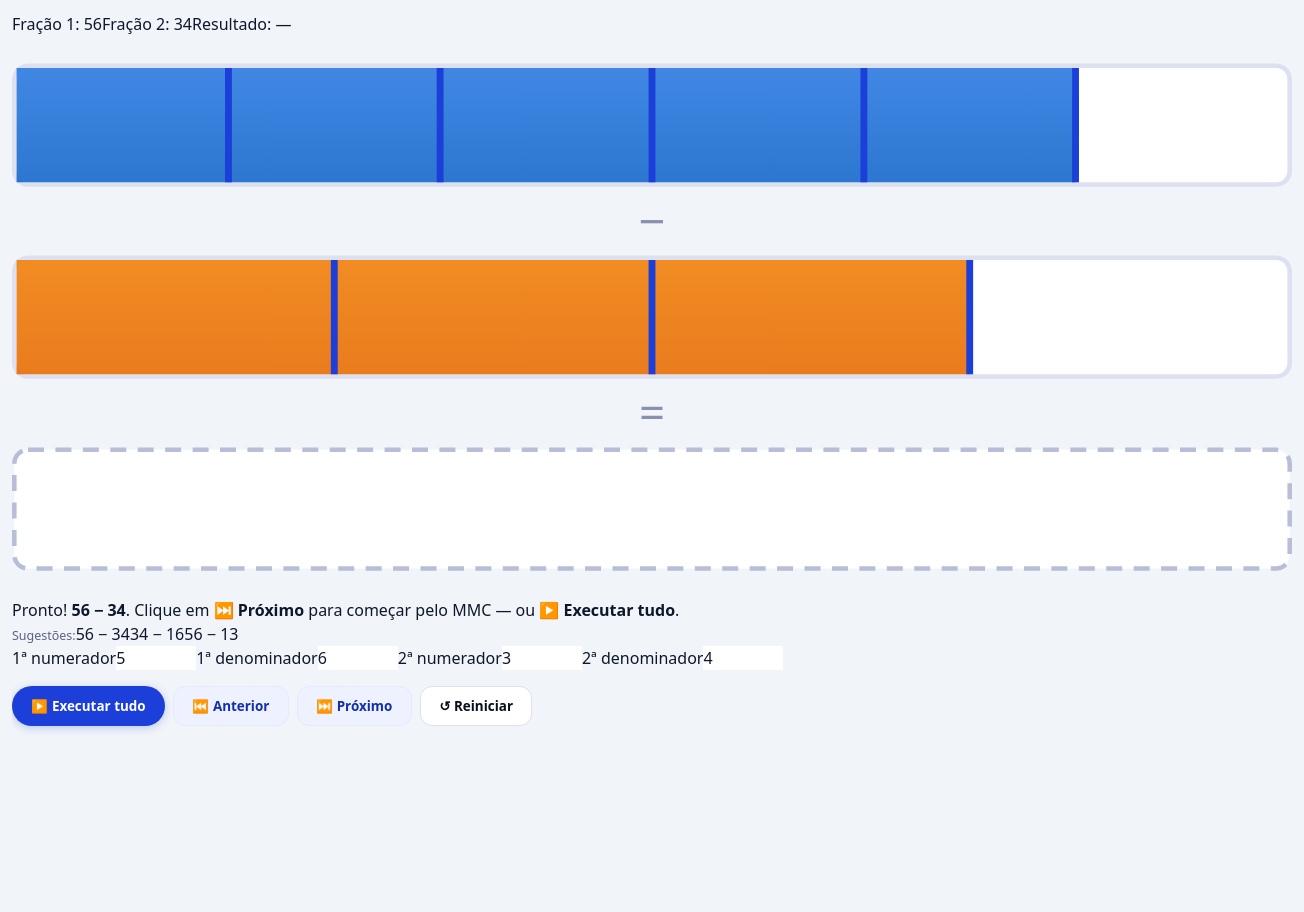
Test case: SubtracaoBarrasSimulator — subtração com as 3 barras › ⏮ volta uma fase e o resultado volta a ser um traço; ↺ reinicia a exploração
This screenshot has width=1304, height=912.
Step 1. Click the button "⏭ Próximo" → [354, 706], box [297,686,412,726]
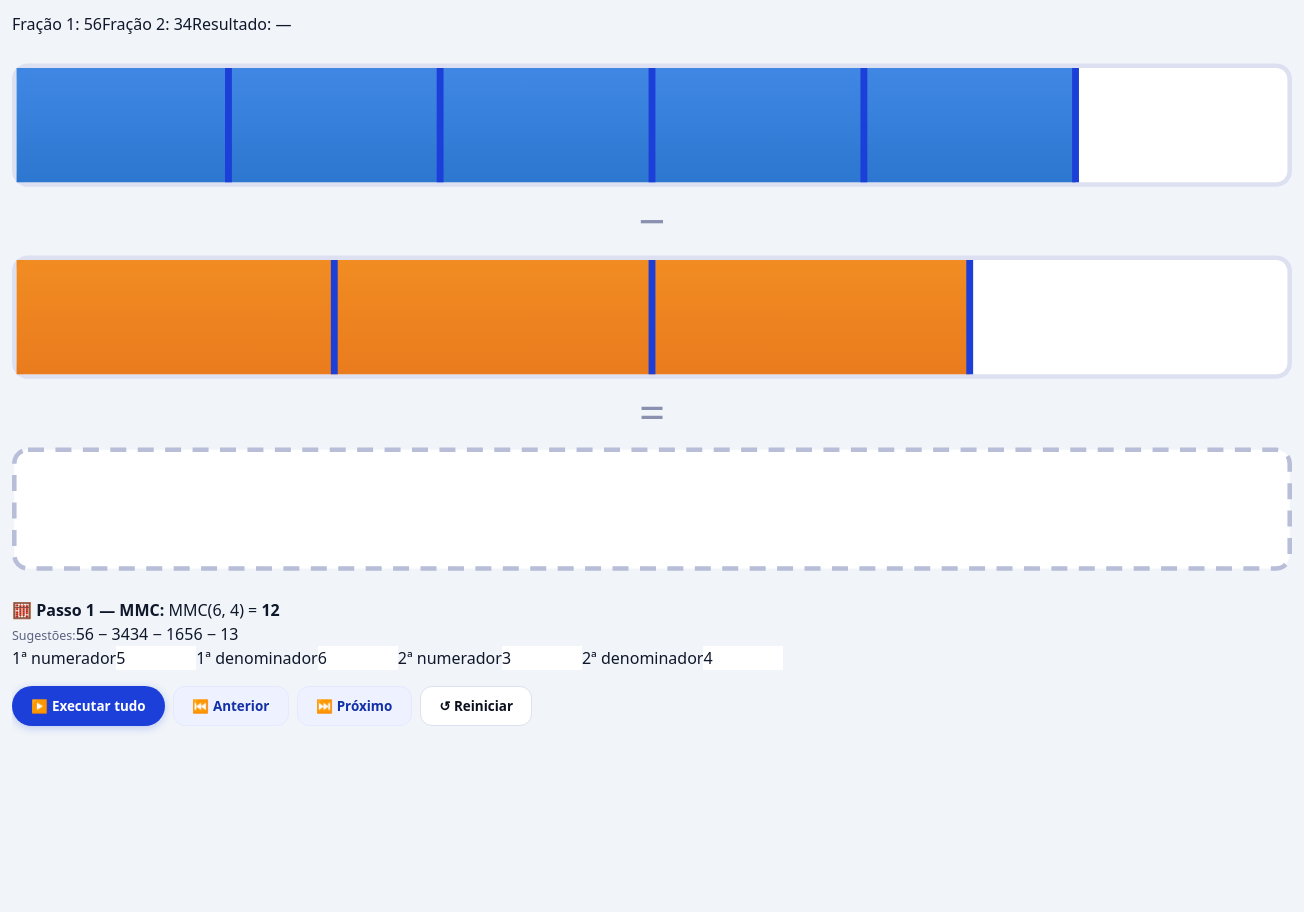
Step 2. Click the button "⏭ Próximo" → [354, 706], box [297,686,412,726]
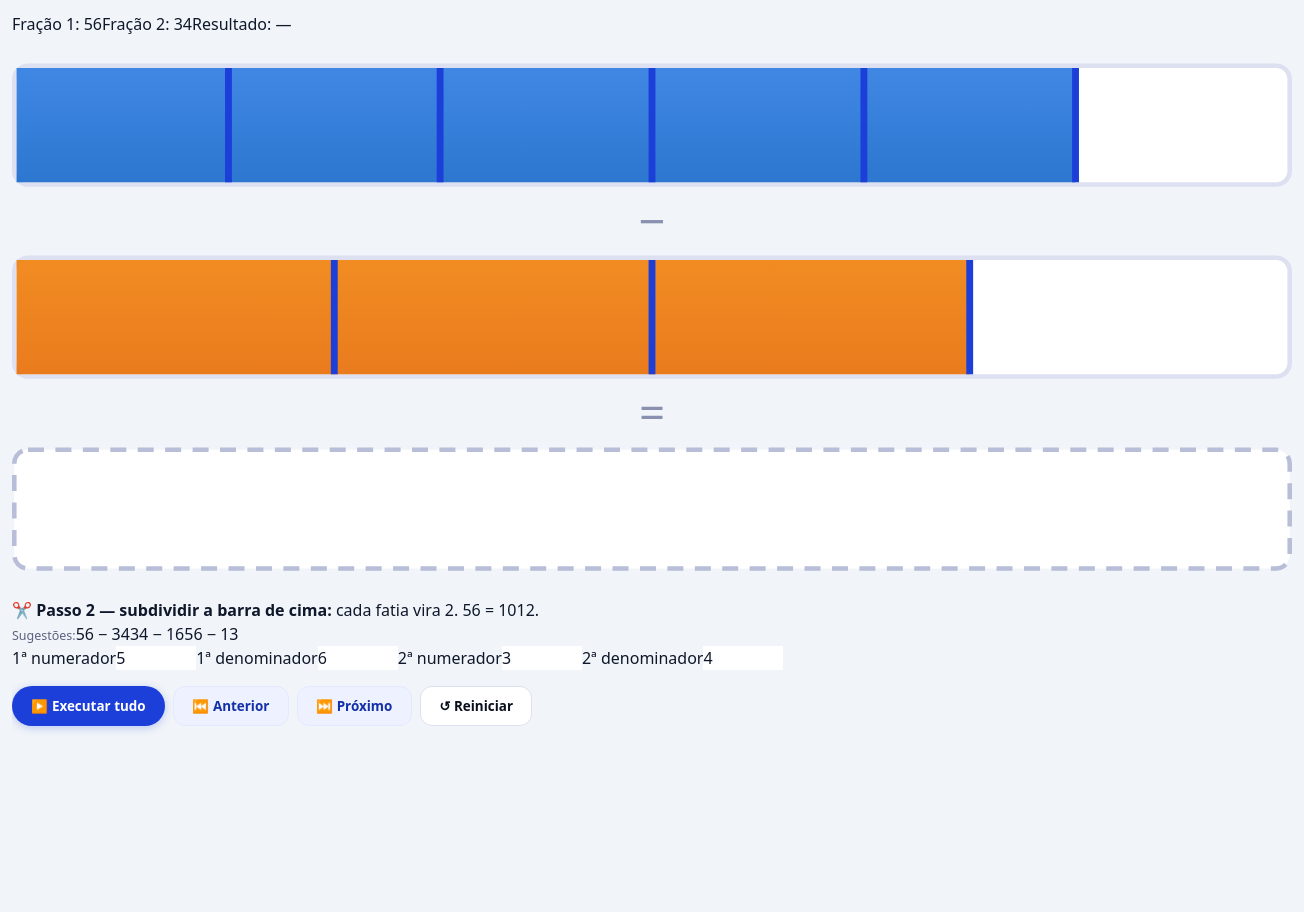
Step 3. Click the button "⏭ Próximo" → [354, 706], box [297,686,412,726]
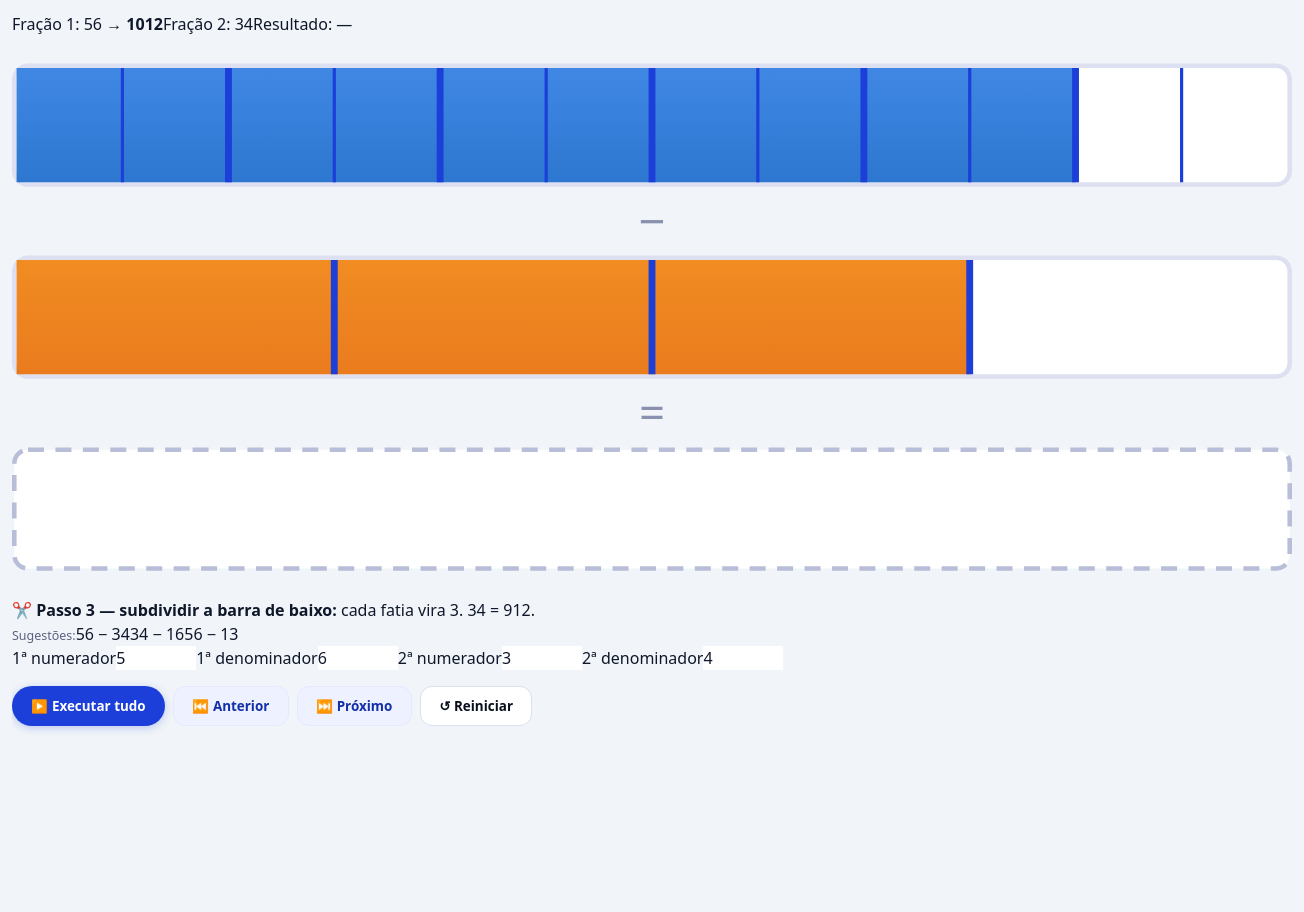
Step 4. Click the button "⏭ Próximo" → [354, 706], box [297,686,412,726]
Wait 910 ms
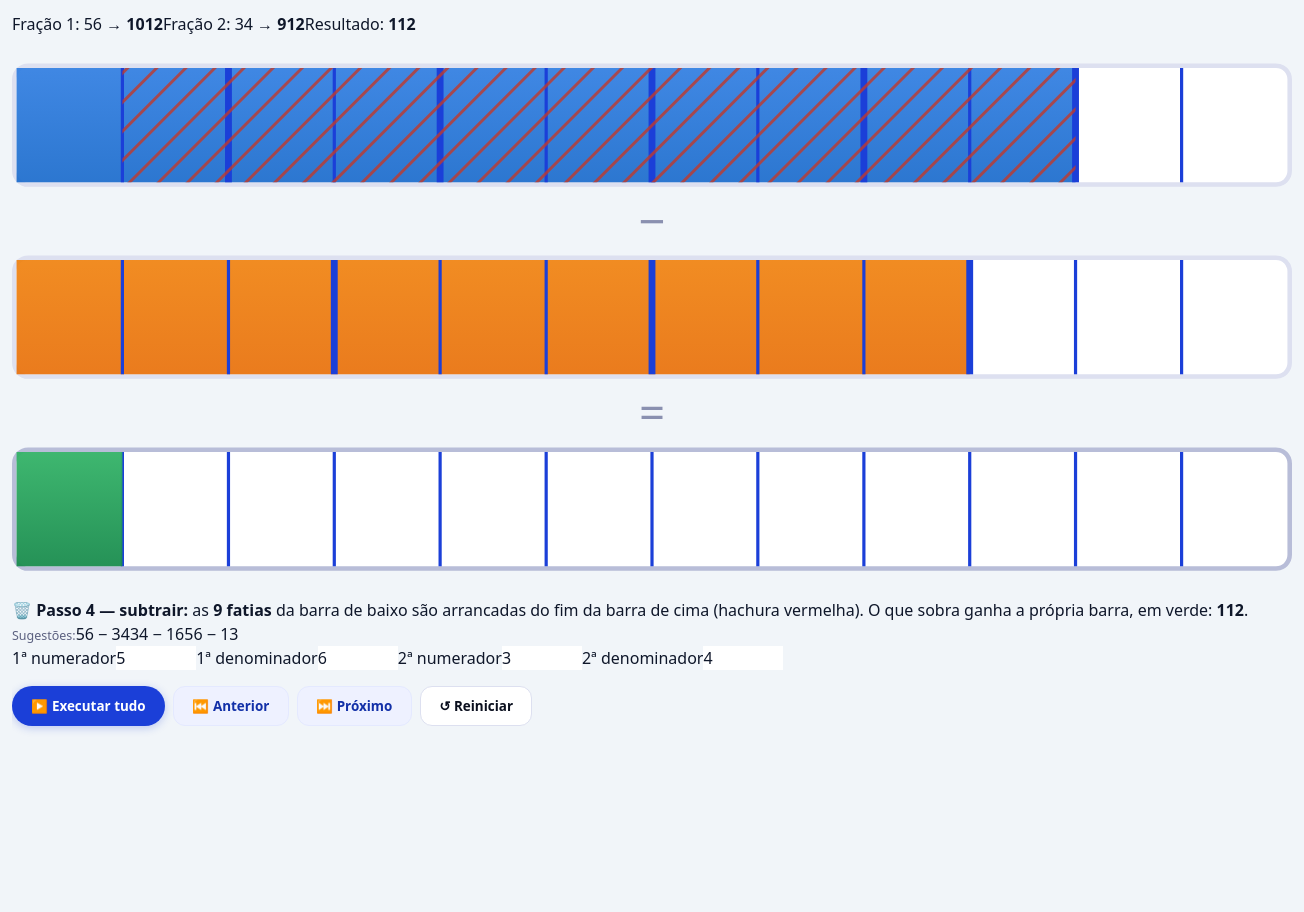
Step 5. Click the button "⏮ Anterior" → [231, 706], box [173,686,289,726]
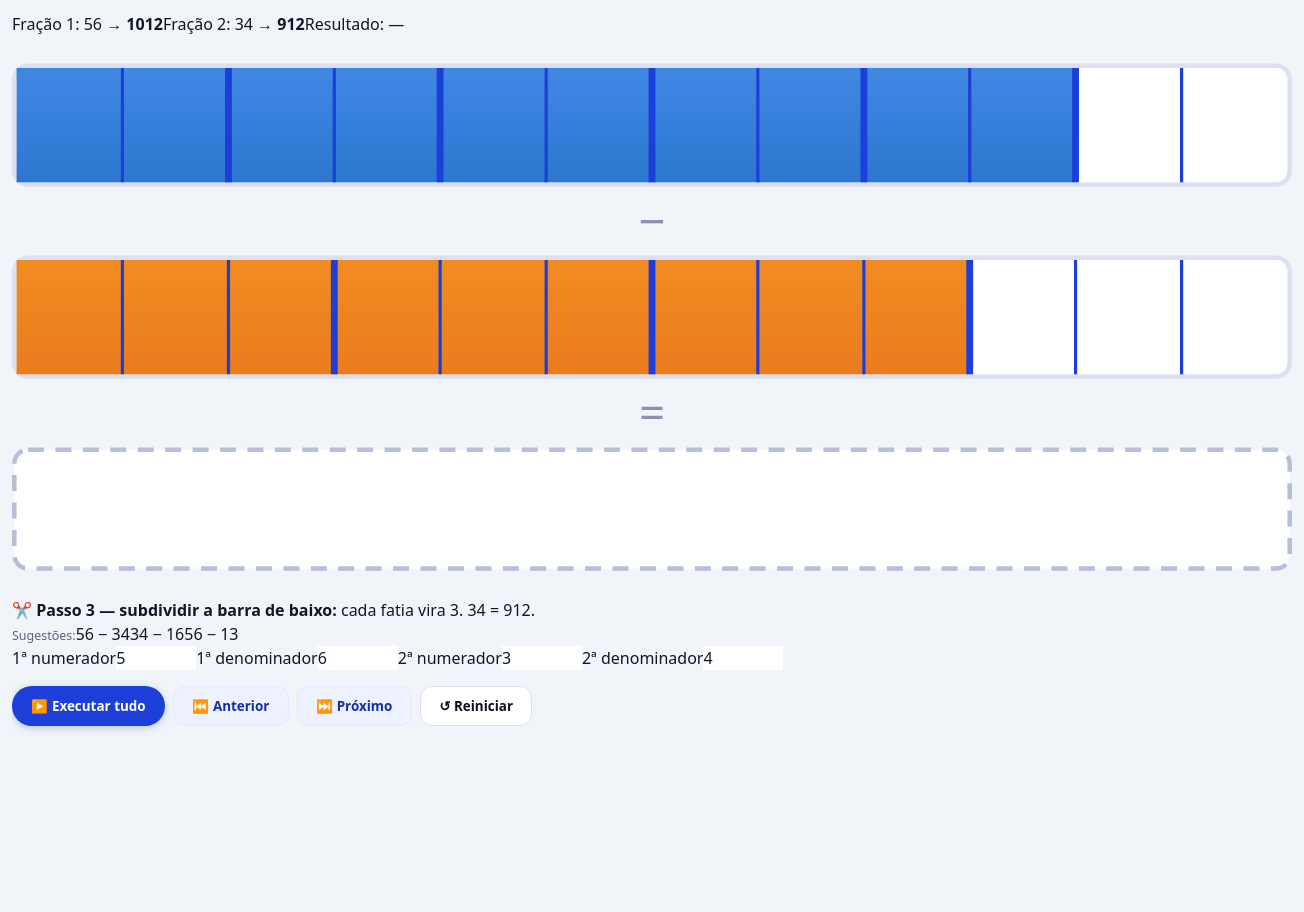
Step 6. Click the button "↺ Reiniciar" → [476, 706], box [420,686,532,726]
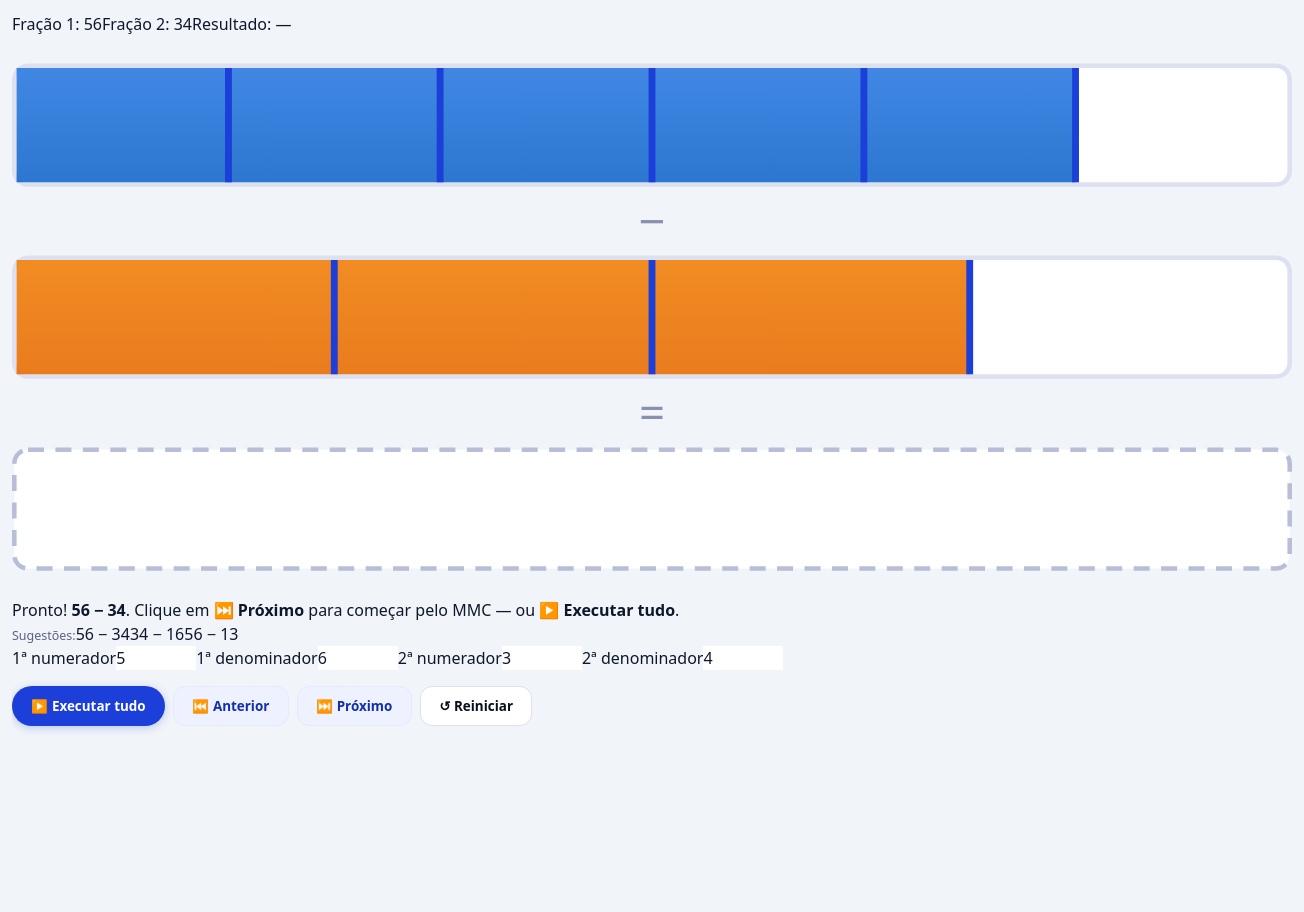
expect the message with class "sim-status" shows "Próximo": met, box [214,599,304,621]
